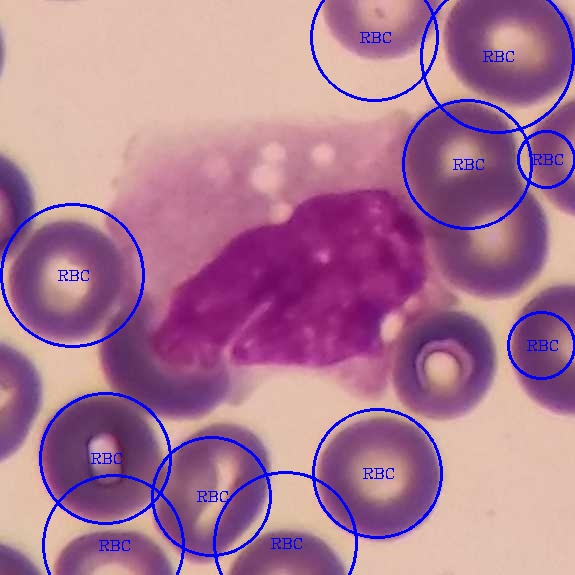RBC: (306, 413, 450, 551), (152, 416, 280, 570), (34, 390, 167, 526), (0, 212, 122, 348), (96, 307, 234, 425), (402, 95, 523, 220), (432, 172, 552, 297), (389, 296, 502, 425), (440, 1, 573, 110), (503, 276, 573, 424), (310, 0, 449, 67)
WBC: (85, 98, 425, 390)
